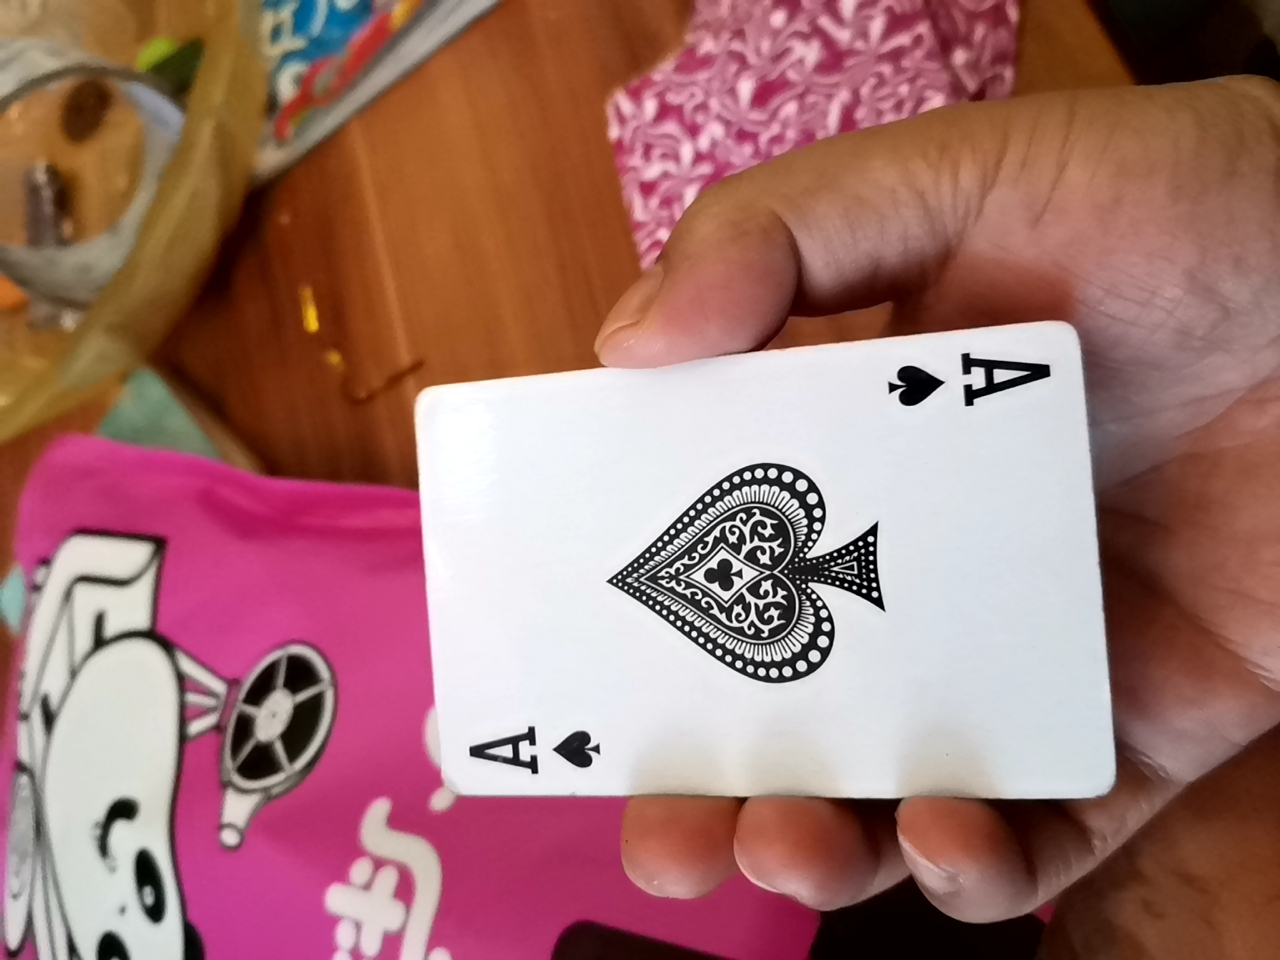ht a: (404, 323, 1133, 829)
